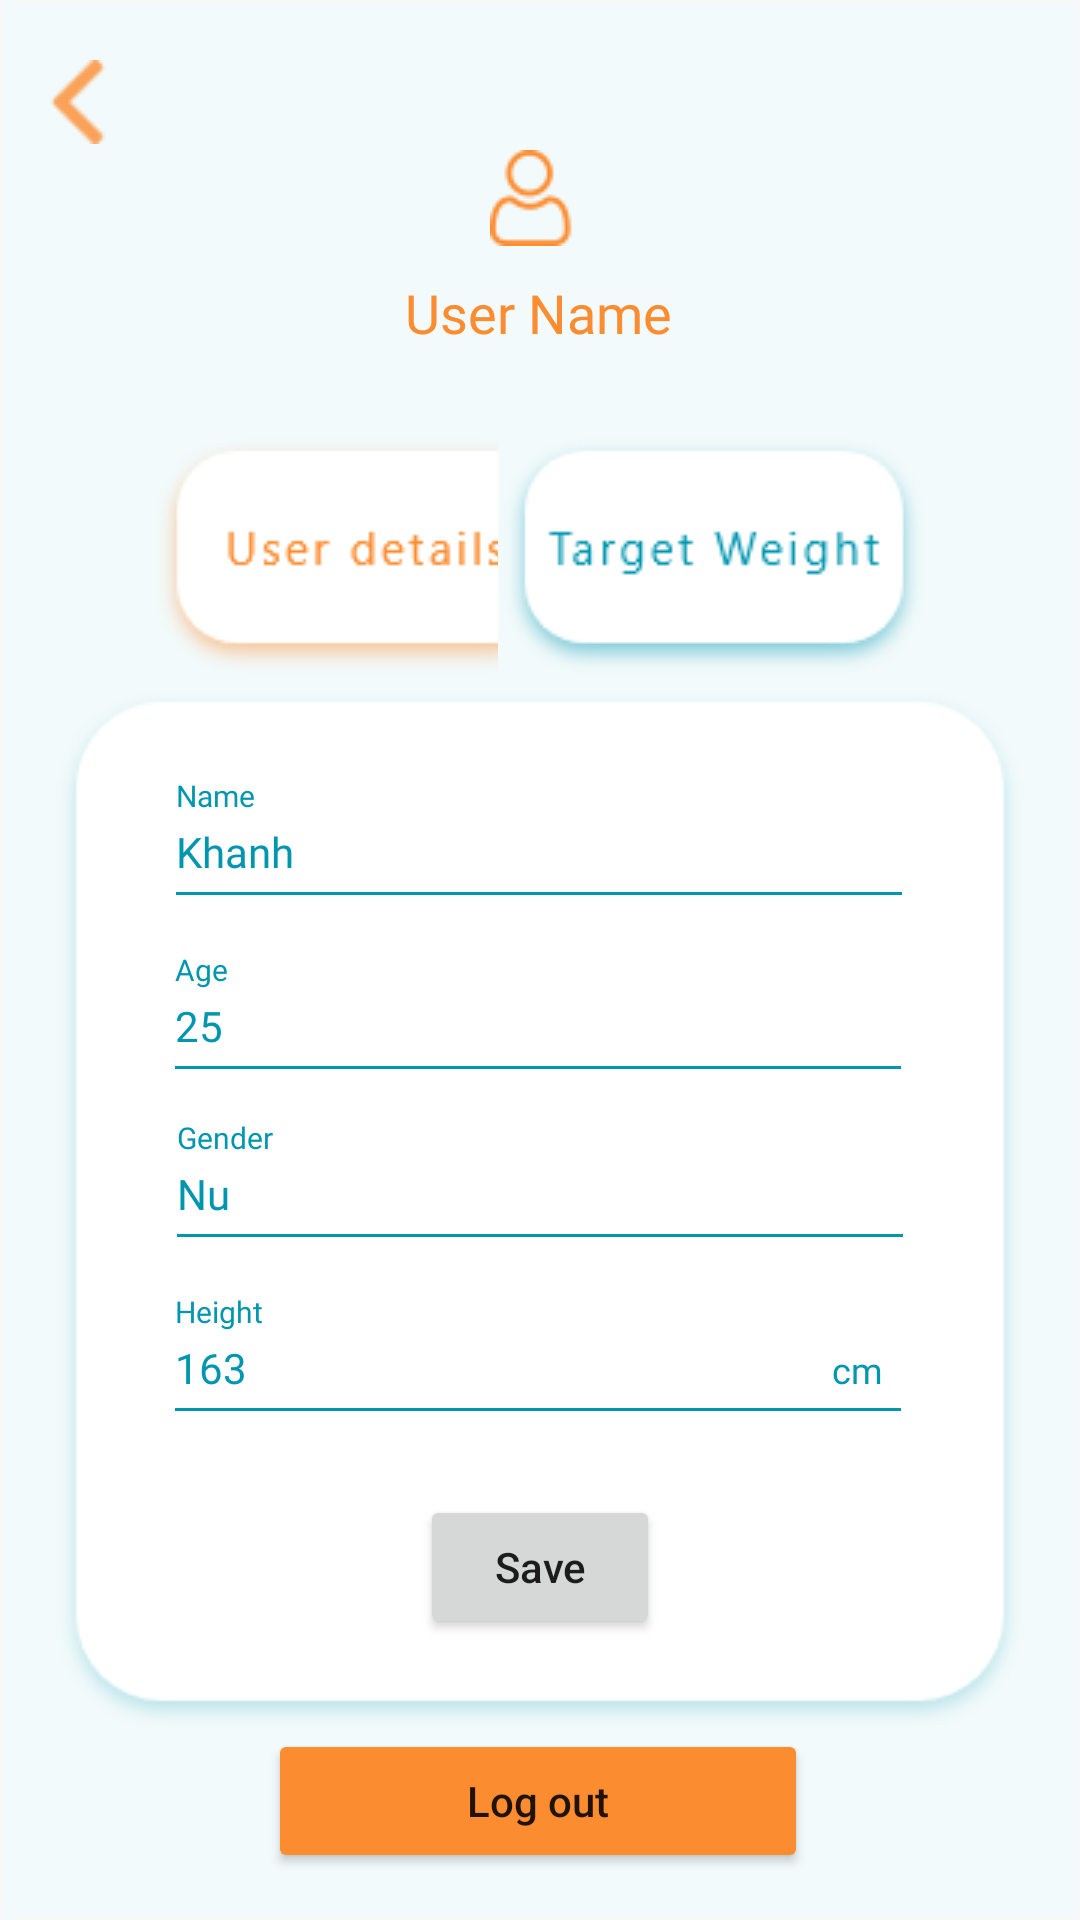

Screen size 1080x1920. Icon name, then its box in pixels as {"left": x1, "top": y1, "right": x2, "bottom": y2}:
back: {"left": 52, "top": 60, "right": 105, "bottom": 144}
